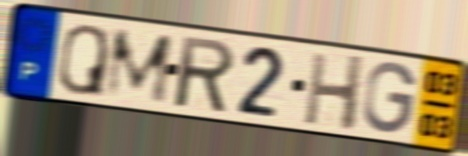2: (232, 44, 287, 121)
G: (361, 60, 420, 136)
H: (301, 50, 368, 134)
M: (102, 28, 176, 106)
Q: (56, 22, 110, 99)
R: (174, 34, 237, 117)
